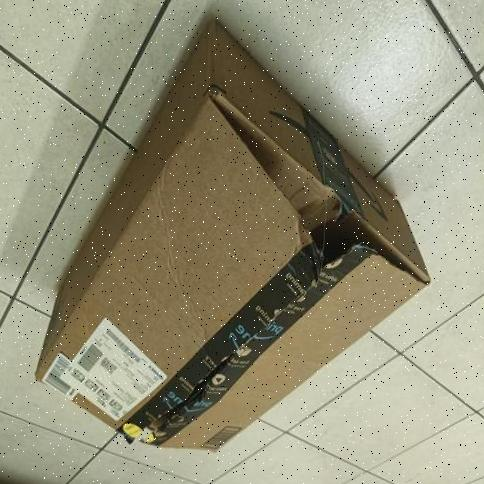Amazon: (30, 18, 427, 454)
